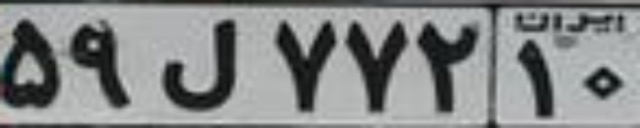0: (581, 66, 624, 100)
1: (515, 38, 556, 117)
2: (418, 20, 483, 112)
5: (0, 17, 61, 109)
7: (271, 20, 342, 111), (346, 19, 411, 112)
9: (70, 18, 136, 109)
lam: (163, 17, 237, 110)
